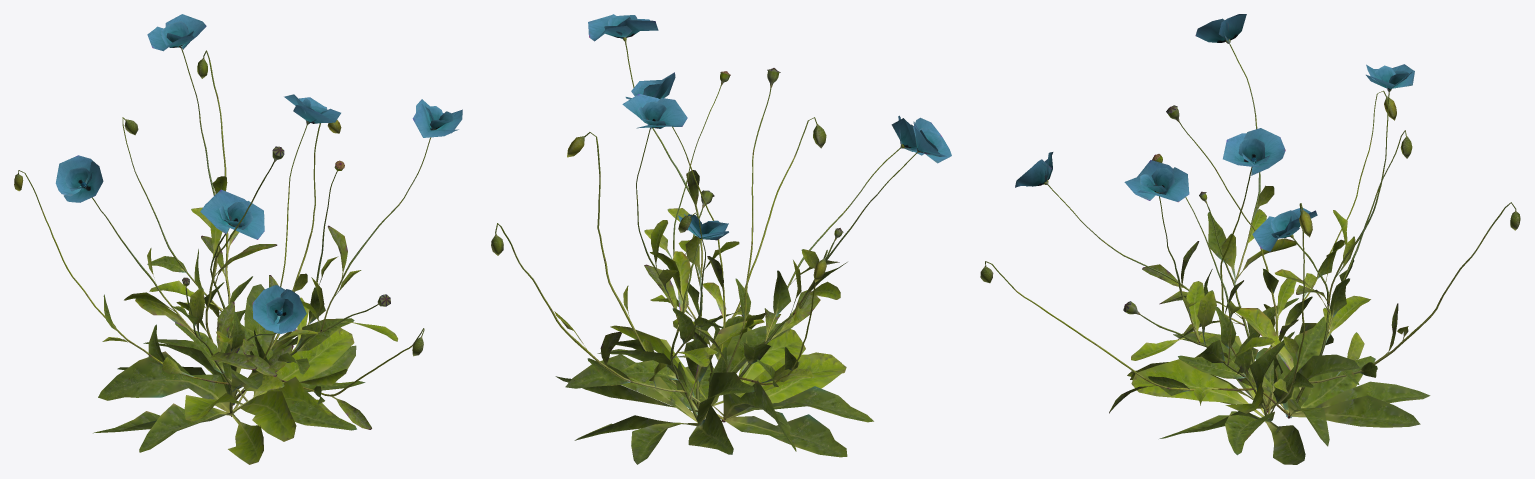
The model's file is Poppy_bush_long_cyan.glb.
The picture shows the model from 3 angles, left to right: view 1: azimuth 30°, elevation 25°; view 2: azimuth 150°, elevation 25°; view 3: azimuth 270°, elevation 25°; orthographic projection. The views are drawn at different scales.
Visible parts, largest first — view 1: large bush; view 2: large bush; view 3: large bush.
Part boxes in pixels (x1,y1,x2,y2): large bush: (14, 14, 462, 464); large bush: (491, 14, 951, 464); large bush: (980, 14, 1520, 464).
Bounding box in the file's own units: 6 × 5.32 × 7.44.
1 material, 1 textured.
